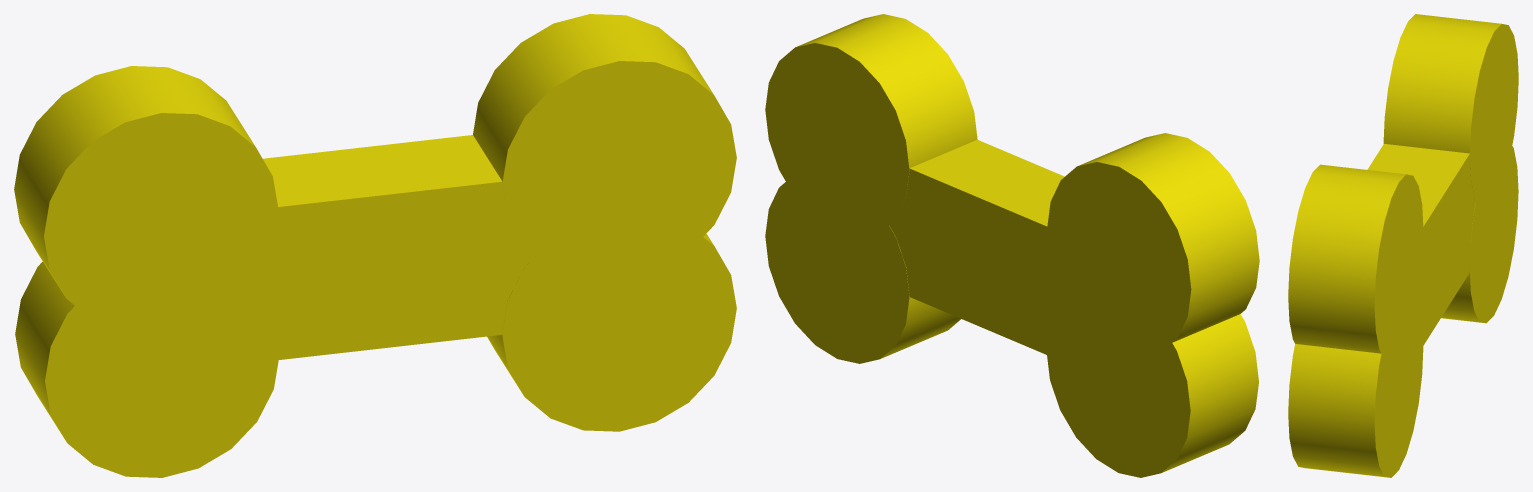
Rendered from Park_Koekje_geel_animation.fbx.
3 renders of one model, left to right at view 1: azimuth 30°, elevation 25°; view 2: azimuth 150°, elevation 25°; view 3: azimuth 270°, elevation 25°, orthographic. The views are drawn at different scales.
Parts seen in each view (by area): view 1: pCylinder6; view 2: pCylinder6; view 3: pCylinder6.
Part boxes in pixels (x1,y1,x2,y2): pCylinder6: (14, 14, 736, 477); pCylinder6: (765, 14, 1259, 477); pCylinder6: (1288, 14, 1518, 477).
Size of the model in its own units: 3.64 by 2.06 by 1.49.
